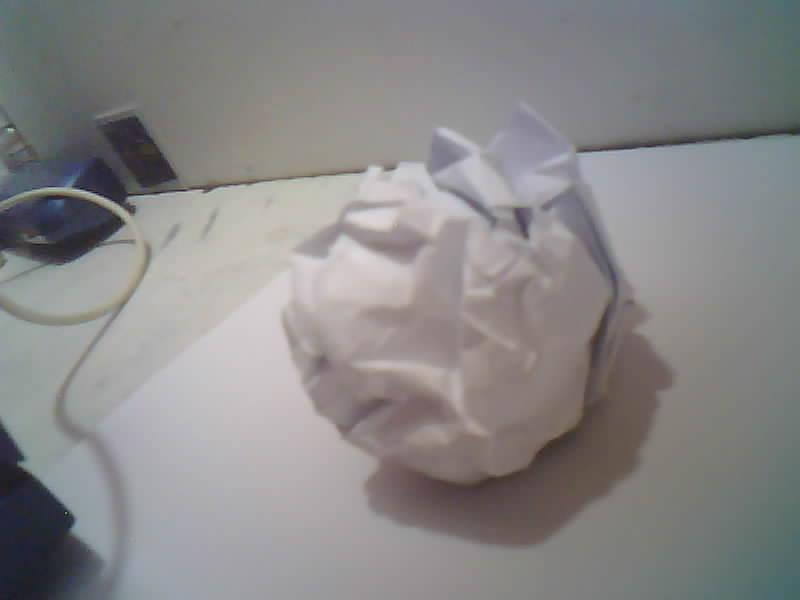biodegradable: (282, 104, 630, 483)
